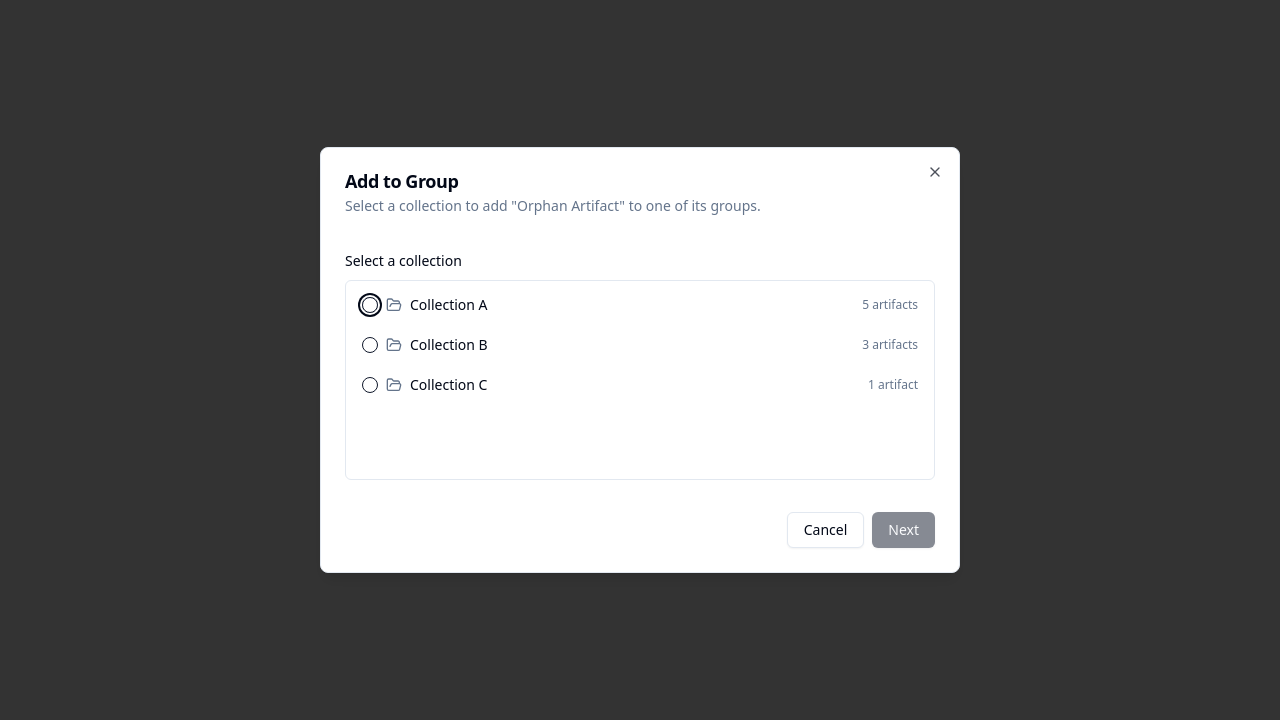
AddToGroupDialog › Collection Picker Step › can select from all collections when artifact has no collections
# Should be able to select any collection
Click the text "Collection C" at {"x": 449, "y": 385}, box left=410, top=378, right=487, bottom=392
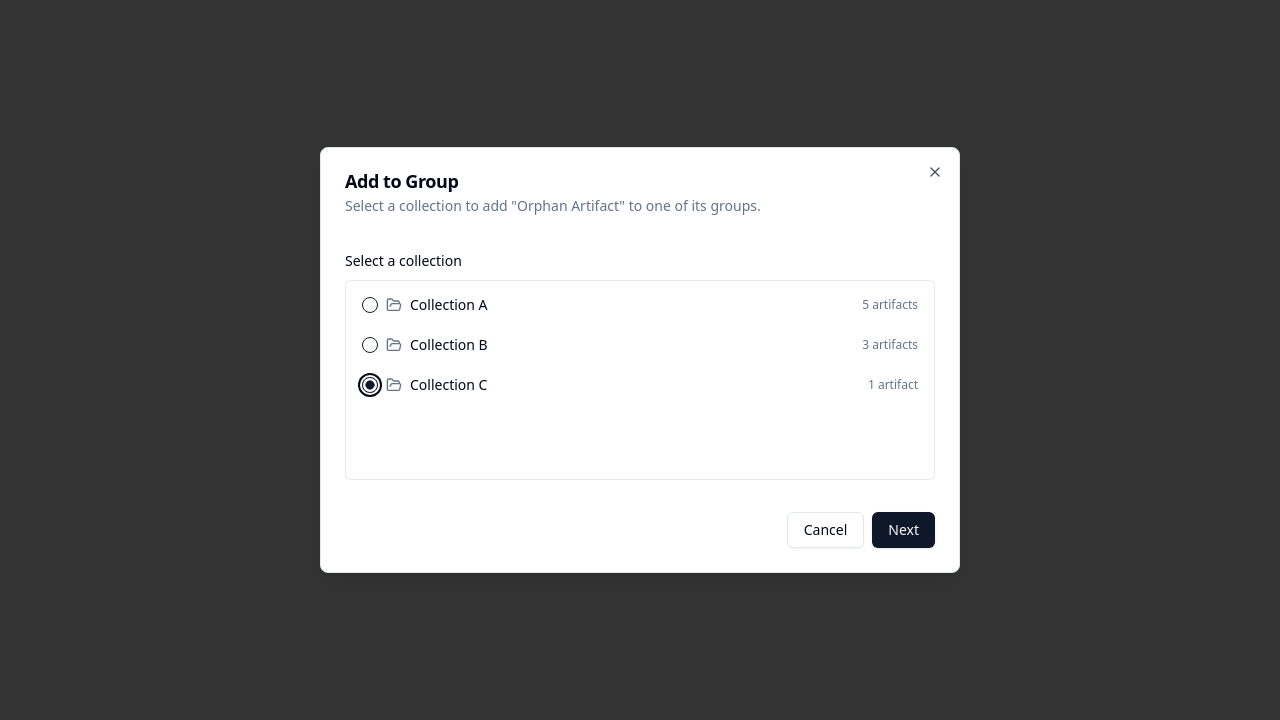
Now the button "Next" is enabled
# Click Next to advance to groups
Click the button "Next" at {"x": 904, "y": 530}, box left=872, top=512, right=935, bottom=548
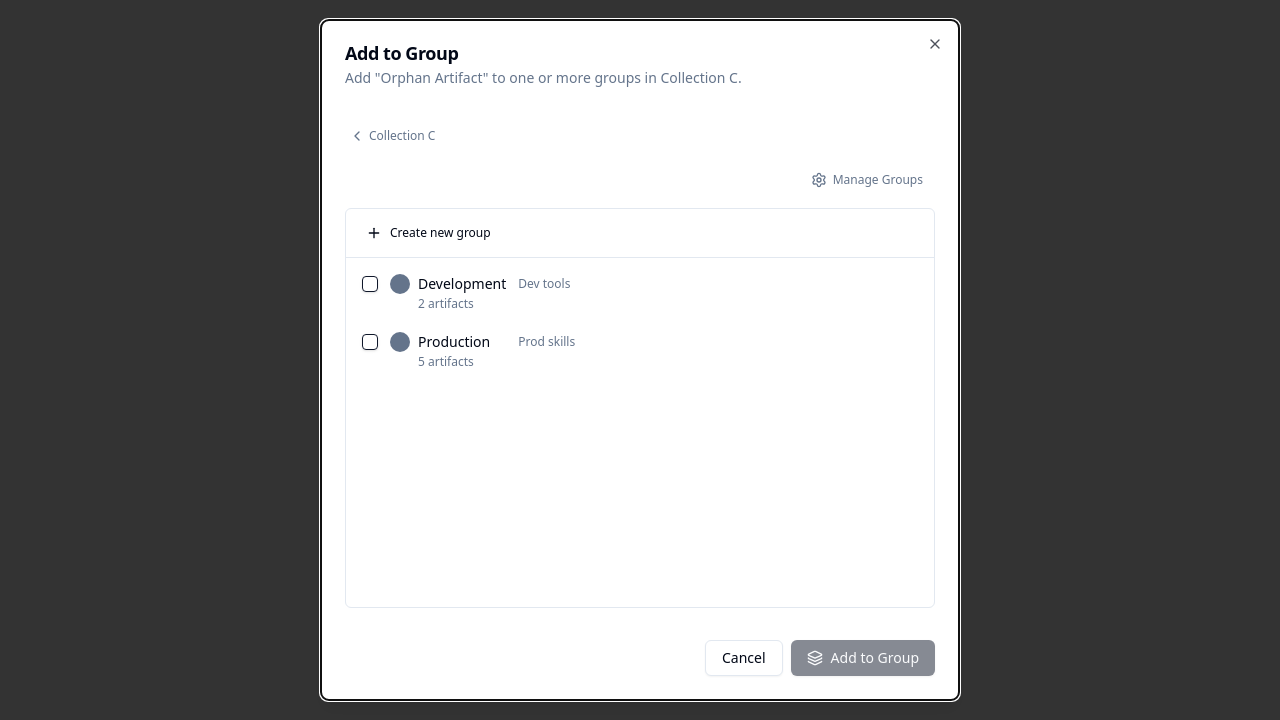
Now the text "Development" is shown, box left=418, top=274, right=506, bottom=294
